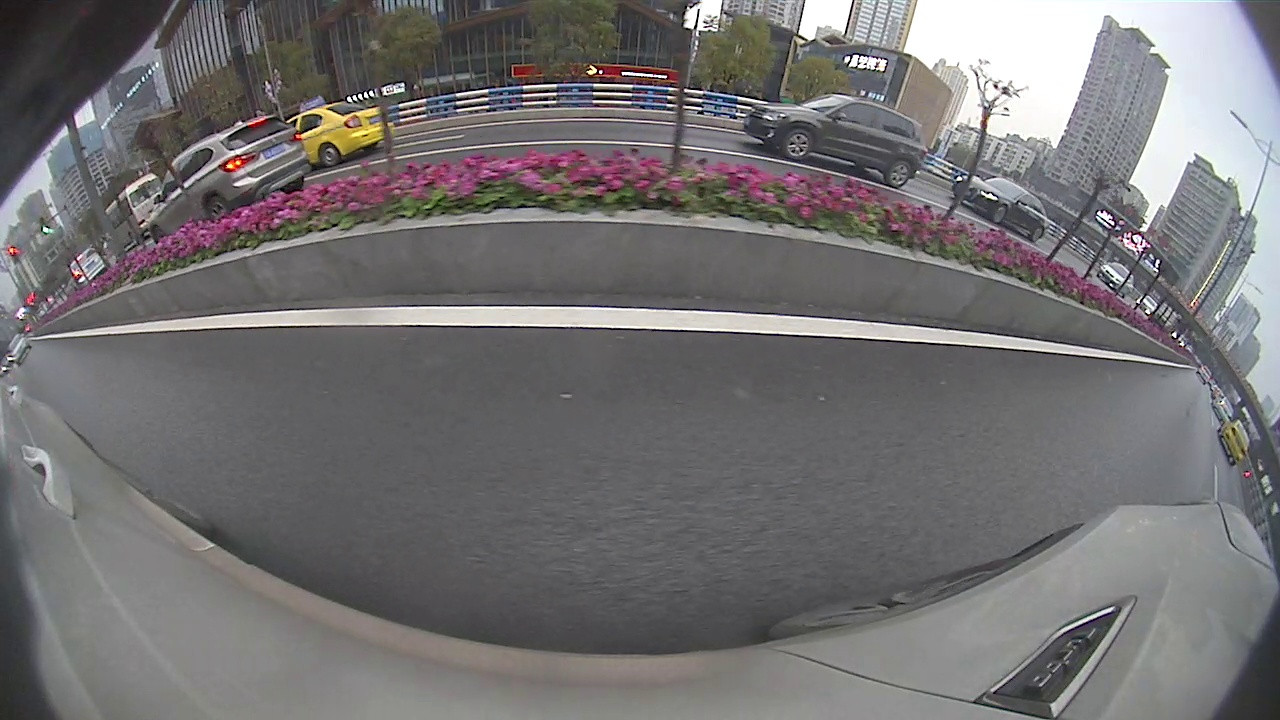car: (741, 92, 929, 190), (1215, 417, 1252, 467)
front: (783, 127, 814, 160), (991, 204, 1007, 225)
rear: (883, 159, 913, 188), (319, 142, 342, 169), (205, 194, 231, 217), (1031, 226, 1044, 242)
